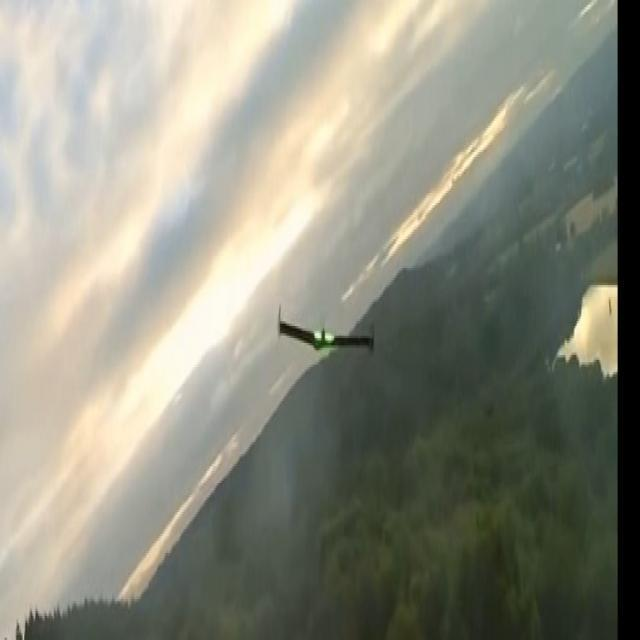iha: (302, 312, 350, 370)
